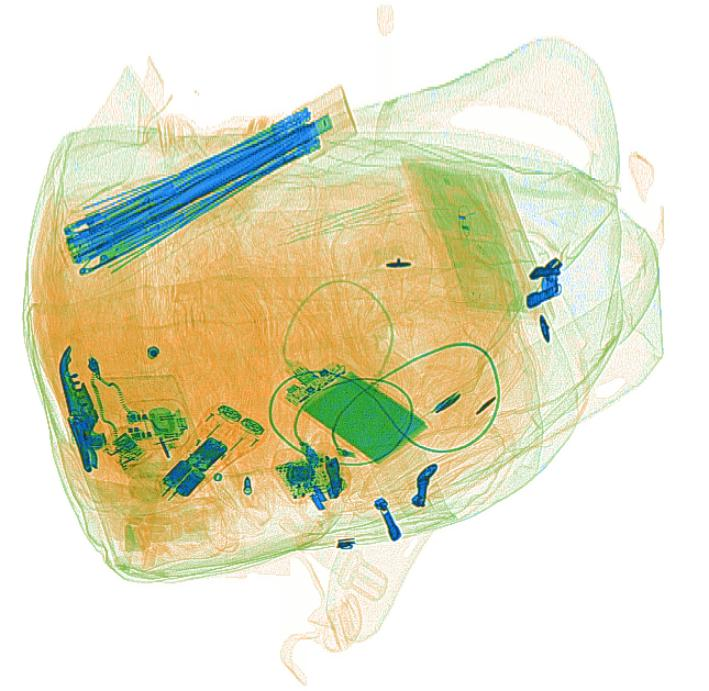battery: (160, 458, 206, 498)
knife: (58, 345, 108, 474)
